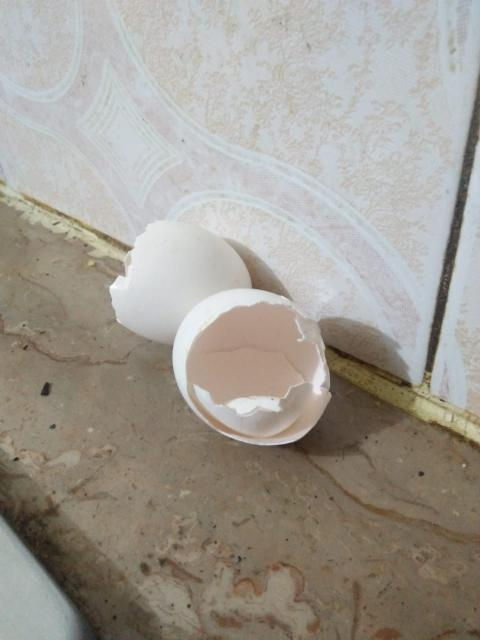Roto: (171, 287, 332, 446), (109, 218, 255, 347)
